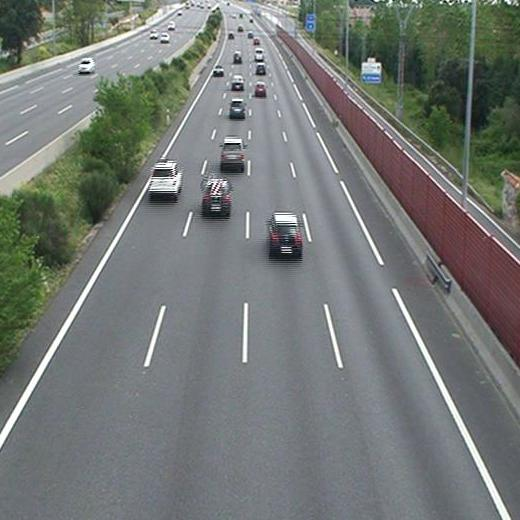car: (269, 213, 302, 252), (150, 163, 182, 195), (202, 180, 231, 213), (220, 139, 245, 165), (229, 99, 245, 116), (232, 74, 244, 89), (255, 82, 266, 95), (255, 64, 266, 74), (233, 53, 244, 62), (213, 65, 224, 74)
van: (255, 48, 263, 61)
